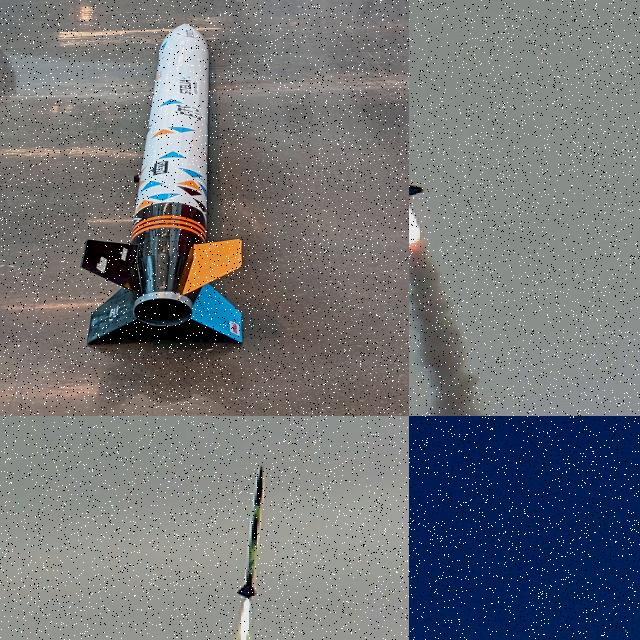Rocket: (79, 23, 243, 344), (237, 464, 265, 599), (409, 54, 424, 200)
